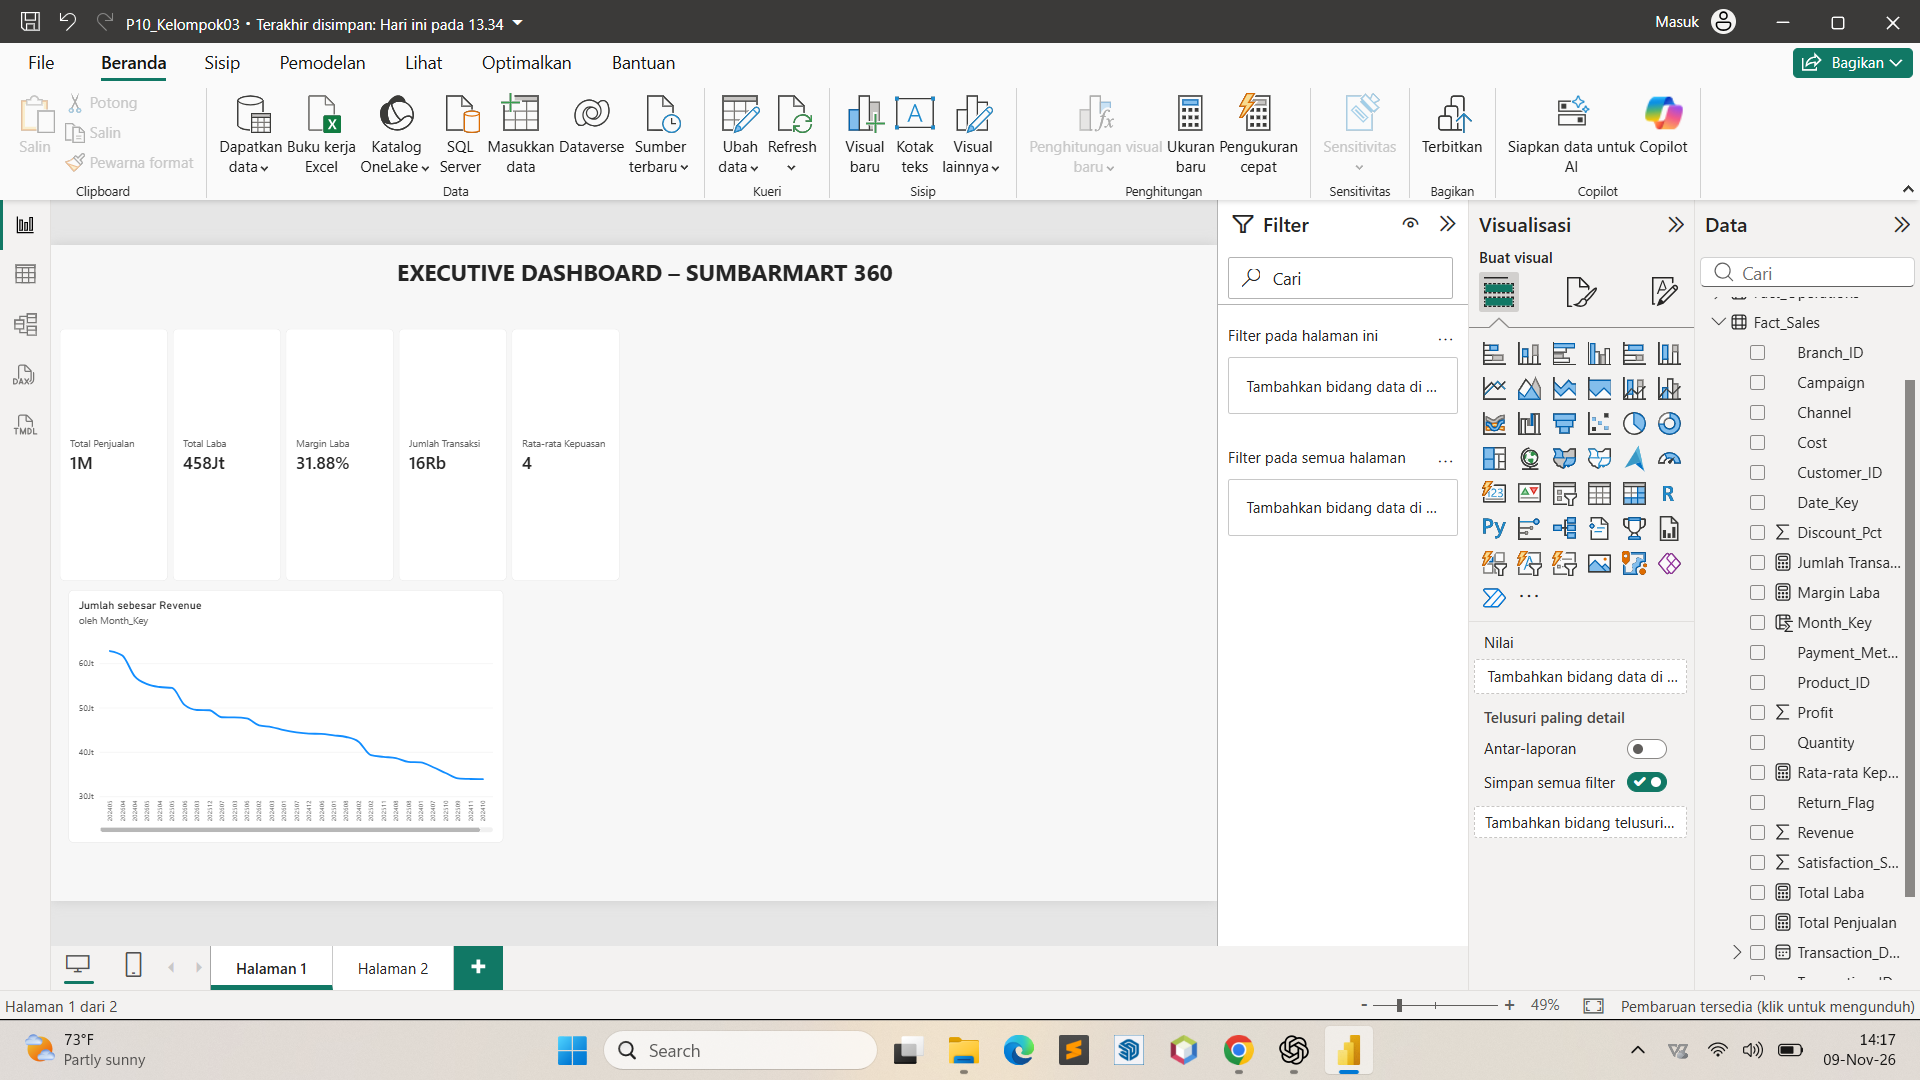

Layout of this report page (visuals, bound fields, positions):
{"tool":"powerbi","page":{"name":"QA Rekonsiliasi P10","canvas":[1920,1080],"ordinal":2},"visuals":[{"type":"tableEx","fields":{"Values":["Dim_Branch.Branch_Name"]},"box":[20.6,51.5,345.8,296.4],"z":1},{"type":"slicer","fields":{"Values":["Dim Date.Month_Year"]},"box":[409.6,51.5,346,296],"z":2},{"type":"cardVisual","fields":{"Data":["Fact_Sales.Total Penjualan"]},"box":[20.6,366.4,346,296],"z":3},{"type":"cardVisual","fields":{"Data":["Fact_Sales.Total Laba"]},"box":[393.1,366.4,346,296],"z":4},{"type":"cardVisual","fields":{"Data":["Fact_Sales.Margin Laba"]},"box":[771.9,366.4,346,296],"z":5},{"type":"cardVisual","fields":{"Data":["Fact_Sales.Jumlah Transaksi"]},"box":[1148.5,366.4,346,296],"z":6},{"type":"cardVisual","fields":{"Data":["Fact_Sales.Rata-rata Kepuasan"]},"box":[1521.1,366.4,346,296],"z":7},{"type":"tableEx","fields":{"Values":["Dim_Branch.Branch_Name","Fact_Sales.Total Penjualan","Fact_Sales.Total Laba","Fact_Sales.Margin Laba","Fact_Sales.Jumlah Transaksi","Fact_Sales.Rata-rata Kepuasan","Fact_Target.Total Target Penjualan","Fact_Target.Selisih Penjualan"]},"box":[18.5,683.4,1171.2,335.5],"z":8}]}

Visuals, with their boxes on the page's 1920x1080 design canvas (x1, y1, x2, y2). These are canvas units, not pixel positions in the 1920x1080 screenshot, which may show the page scaled, cropped or inside an application window:
tableEx - Dim_Branch.Branch_Name: {"x1": 21, "y1": 52, "x2": 366, "y2": 348}
slicer - Dim Date.Month_Year: {"x1": 410, "y1": 52, "x2": 756, "y2": 348}
cardVisual - Fact_Sales.Total Penjualan: {"x1": 21, "y1": 366, "x2": 367, "y2": 662}
cardVisual - Fact_Sales.Total Laba: {"x1": 393, "y1": 366, "x2": 739, "y2": 662}
cardVisual - Fact_Sales.Margin Laba: {"x1": 772, "y1": 366, "x2": 1118, "y2": 662}
cardVisual - Fact_Sales.Jumlah Transaksi: {"x1": 1148, "y1": 366, "x2": 1494, "y2": 662}
cardVisual - Fact_Sales.Rata-rata Kepuasan: {"x1": 1521, "y1": 366, "x2": 1867, "y2": 662}
tableEx - Dim_Branch.Branch_Name x Fact_Sales.Total Penjualan: {"x1": 18, "y1": 683, "x2": 1190, "y2": 1019}
